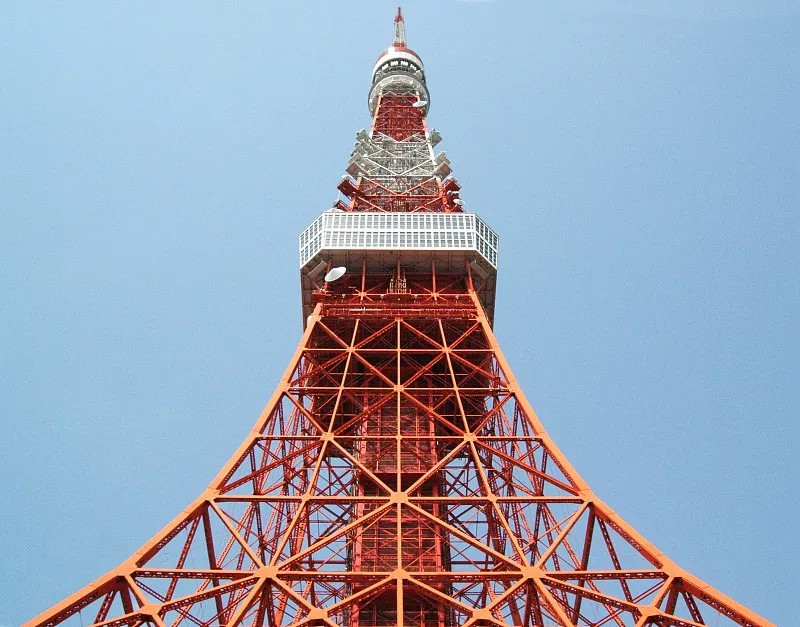Tokyo: (21, 5, 784, 625)
